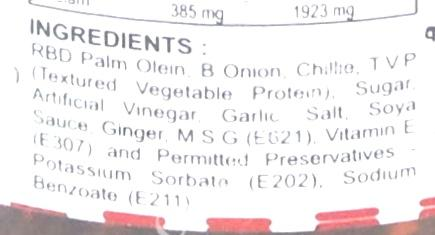ingredients: (28, 15, 431, 209)
